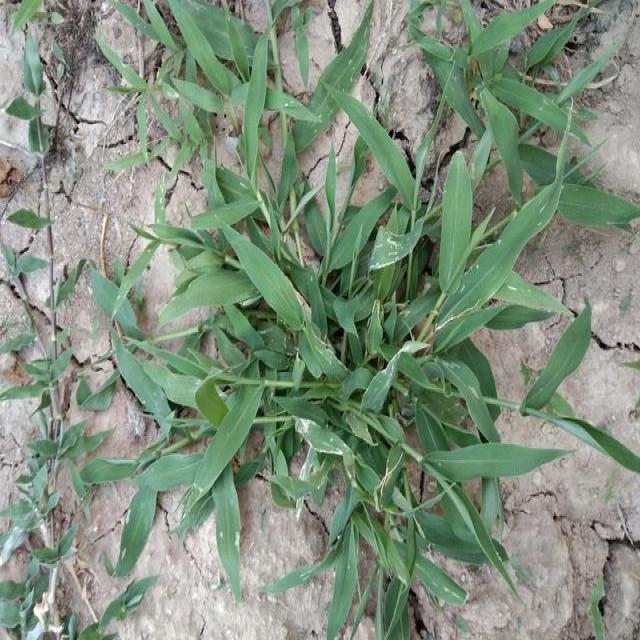weed: (90, 257, 613, 640), (170, 14, 412, 317), (442, 15, 640, 365), (0, 228, 107, 640)
